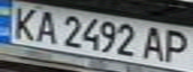2: (57, 12, 84, 50), (115, 20, 142, 58)
4: (78, 16, 103, 52)
9: (96, 19, 121, 54)
A: (139, 24, 172, 62), (30, 8, 60, 44)
K: (6, 3, 42, 42)
P: (157, 27, 193, 64)
